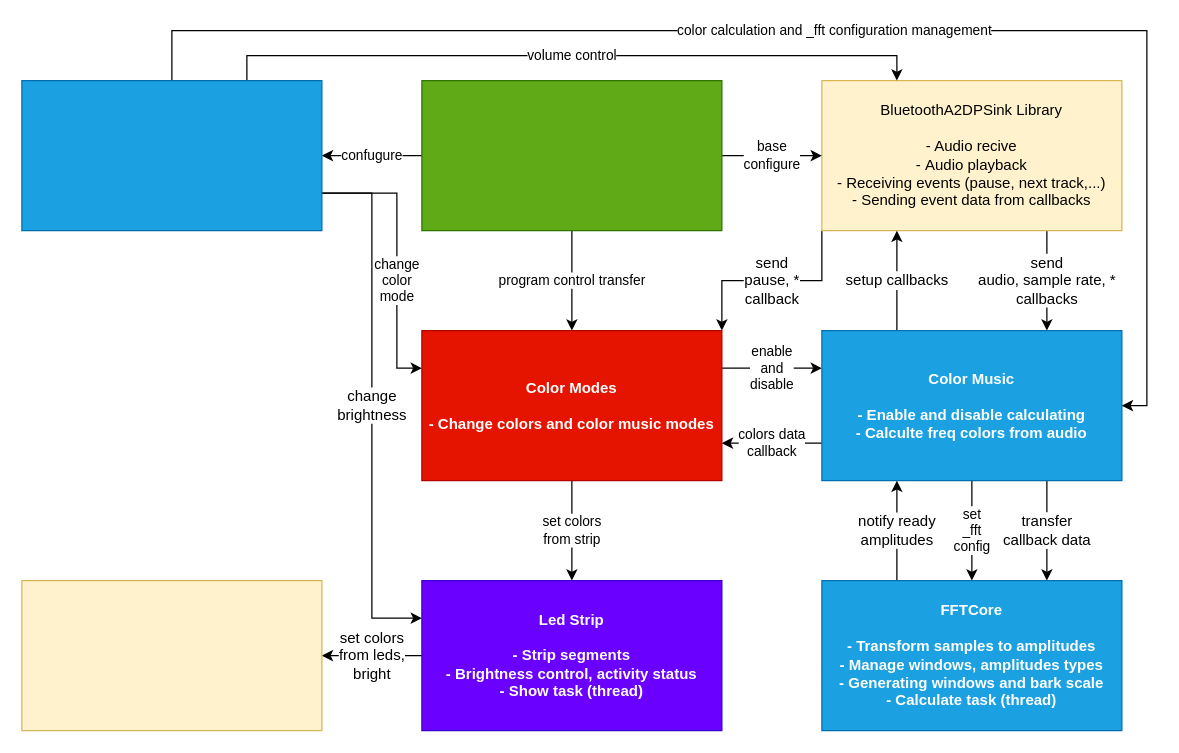
The diagram is 1179 pixels wide and 753 high, and some of its shapes have lost their labels. Each missing label, with the centre of its shape:
"FastLED Library - Show leds values - Color correction - CRT gamma" belongs at (171,655).
"Main Launch - Configure - Includes - Initialization - Setup - Start" belongs at (571,155).
"RemoteControl - IR remote - Encoder - Serial - Another protocols" belongs at (171,155).
